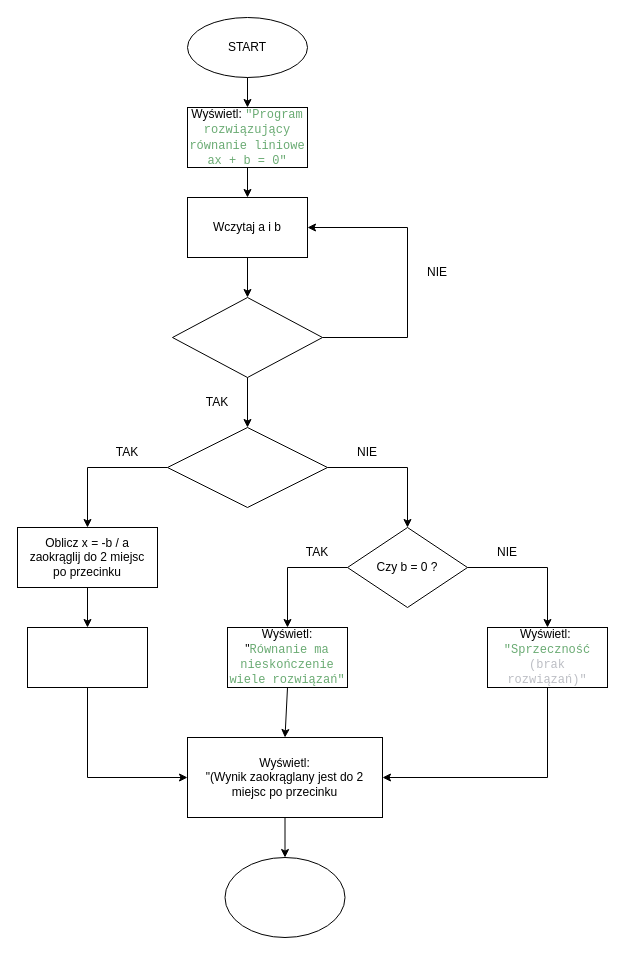
This 625x955 diagram has some shape labels left out. The shapes that lost their labels are listed below. From the top down, each one's centre as x and y in pixels, then its label:
[247,337]: Czy dane są poprawne?
[247,467]: Czy a ≠ 0 ?
[87,657]: Wyświetl: " Rozwiązaniem równania jest x = (wynik)"
[284,897]: STOP
